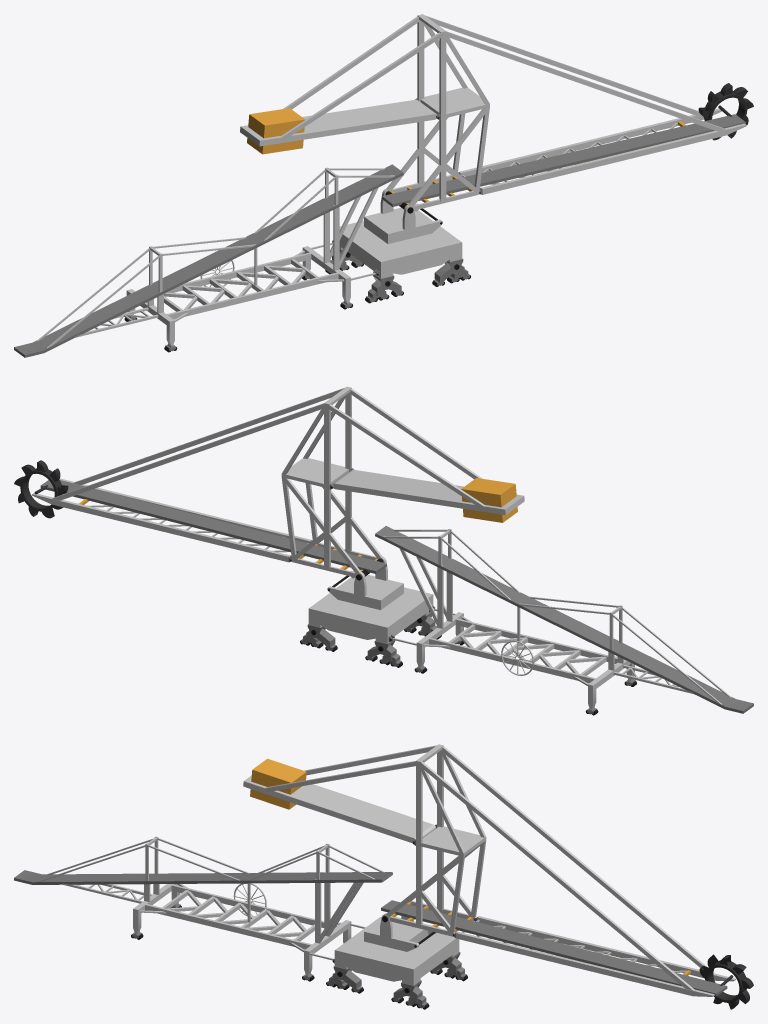
File: dushangang1206.fbx
3 views of the same model, one above another, from view 1: azimuth 30°, elevation 25°; view 2: azimuth 150°, elevation 25°; view 3: azimuth 330°, elevation 25° (orthographic). The views are drawn at different scales.
Parts seen in each view (by area): view 1: zhijia, budong, zhuanzhou, doulun2; view 2: zhijia, budong, zhuanzhou, doulun2; view 3: zhijia, budong, zhuanzhou, doulun2.
Boxes of the visible parts, left/top/right/bottom form: zhijia: left=240, top=14, right=746, bottom=210; budong: left=14, top=164, right=470, bottom=357; zhuanzhou: left=364, top=189, right=442, bottom=243; doulun2: left=698, top=83, right=753, bottom=140; zhijia: left=32, top=386, right=524, bottom=577; budong: left=300, top=526, right=753, bottom=715; zhuanzhou: left=327, top=556, right=403, bottom=610; doulun2: left=14, top=460, right=68, bottom=518; zhijia: left=243, top=744, right=735, bottom=996; budong: left=14, top=836, right=467, bottom=1009; zhuanzhou: left=364, top=901, right=439, bottom=951; doulun2: left=699, top=954, right=753, bottom=1009.
Size of the model in its own units: 1098 by 345 by 126.
